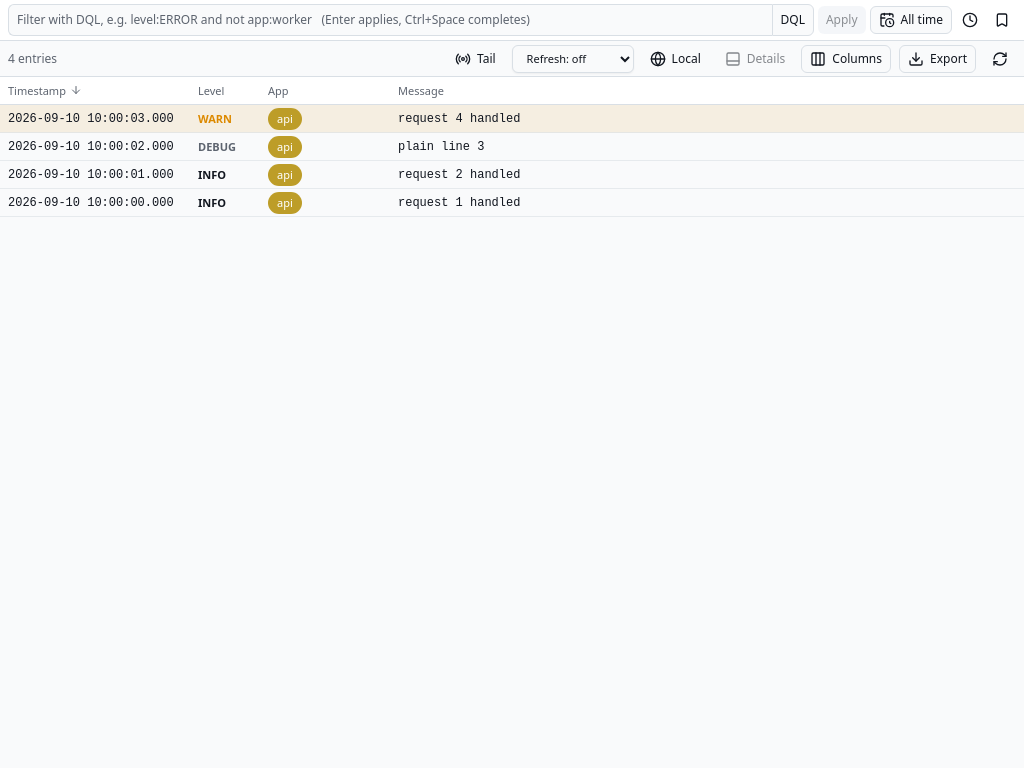
Scenario: LogTable › toggles fixed and dynamic columns and persists the layout
Click the button "Columns": (846, 58) x1=801 y1=44 x2=891 y2=72
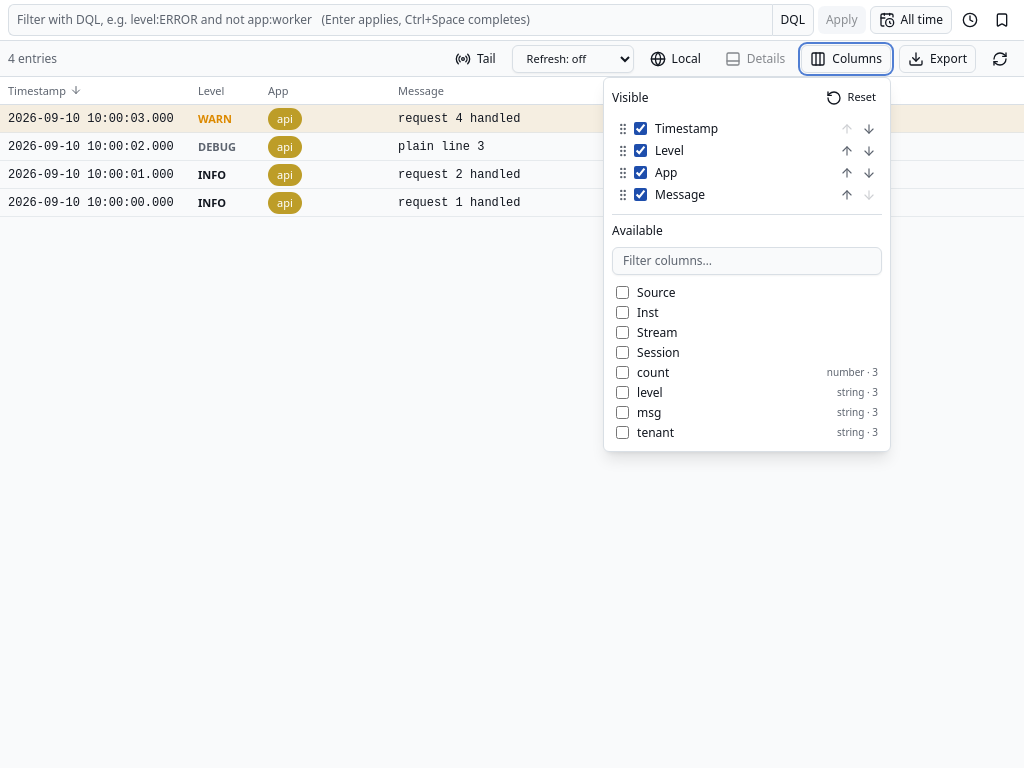
Click the checkbox labelled "tenant": (622, 432) x1=616 y1=426 x2=629 y2=439
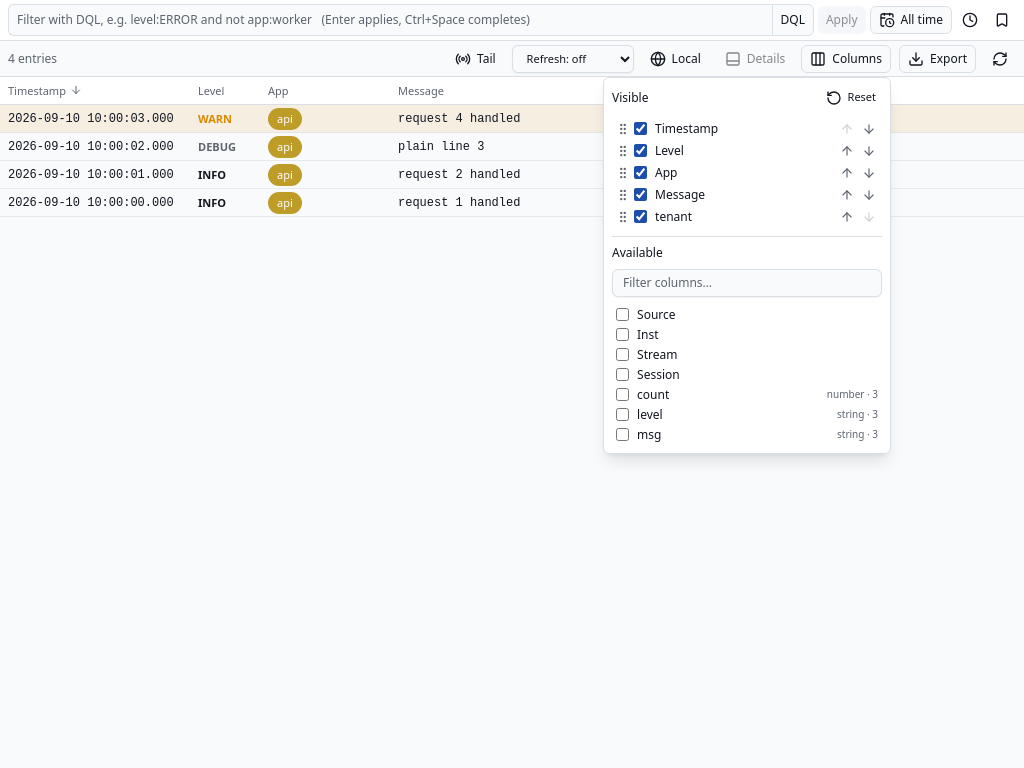
Click the checkbox labelled "App": (640, 172) x1=634 y1=166 x2=647 y2=179
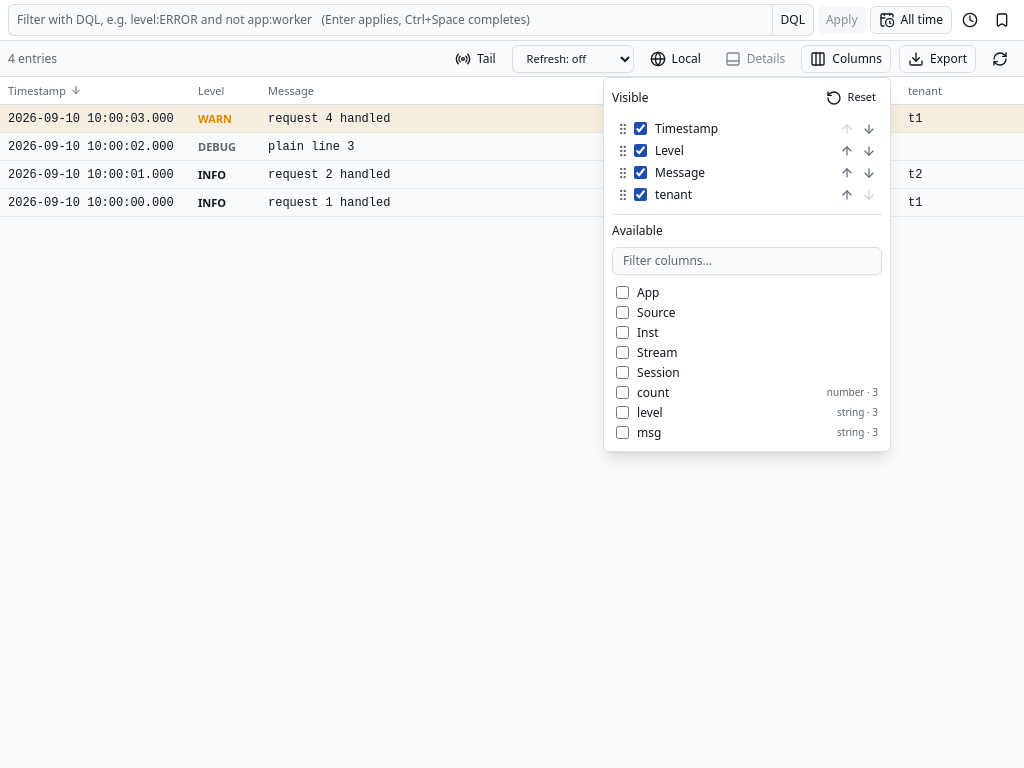
Click the button named "move tenant up": (847, 194) x1=838 y1=186 x2=856 y2=204
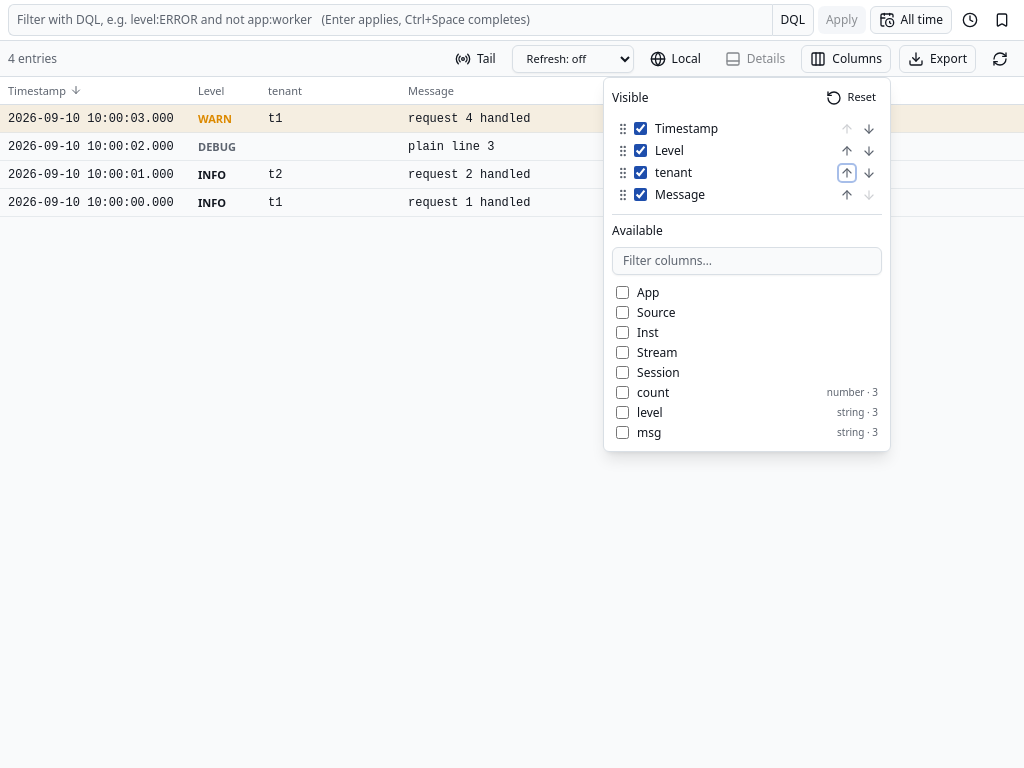
Check: the column headings read "Timestamp", "Level", "tenant", "Message", in this order, box x1=8 y1=83 x2=182 y2=98; x1=198 y1=83 x2=252 y2=98; x1=268 y1=83 x2=392 y2=98; x1=408 y1=83 x2=1023 y2=98
